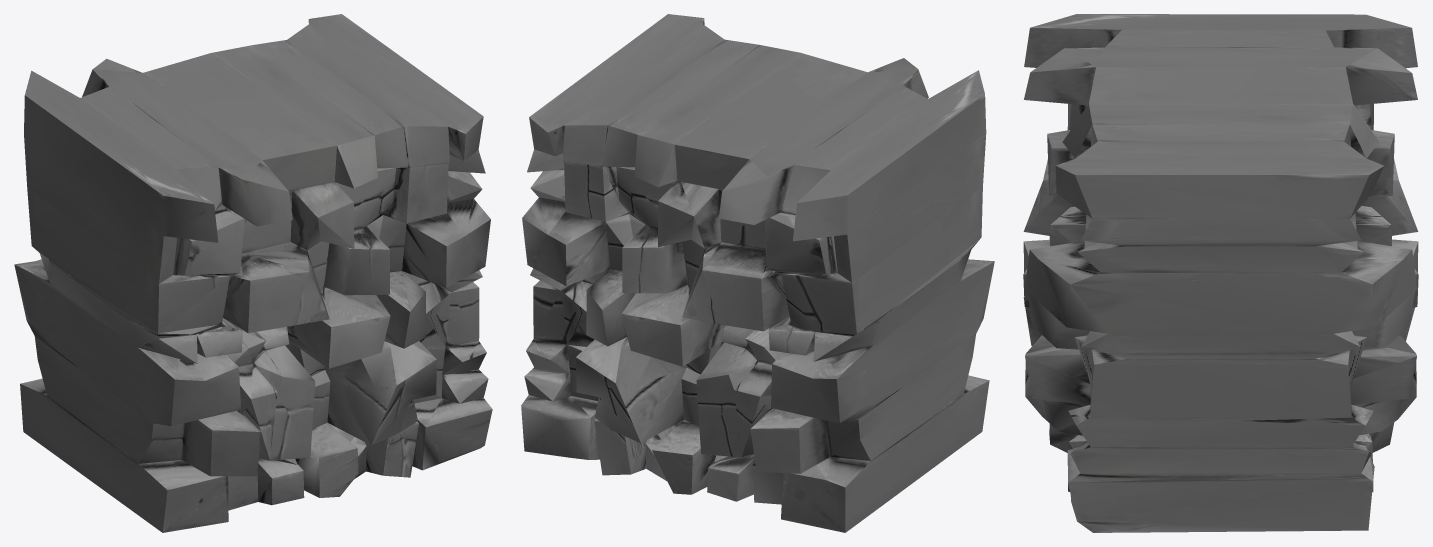
The model's file is wall-high.glb.
3 views of the same model, side by side, from view 1: azimuth 30°, elevation 25°; view 2: azimuth 150°, elevation 25°; view 3: azimuth 270°, elevation 25° (orthographic). The views are drawn at different scales.
Visible parts, largest first — view 1: wall-high; view 2: wall-high; view 3: wall-high.
Boxes of the visible parts, <box> form: wall-high: <box>14,14,492,532</box>; wall-high: <box>521,14,994,532</box>; wall-high: <box>1023,14,1418,532</box>.
Bounding box in the file's own units: 1 × 1 × 1.
1 material, 1 textured.
